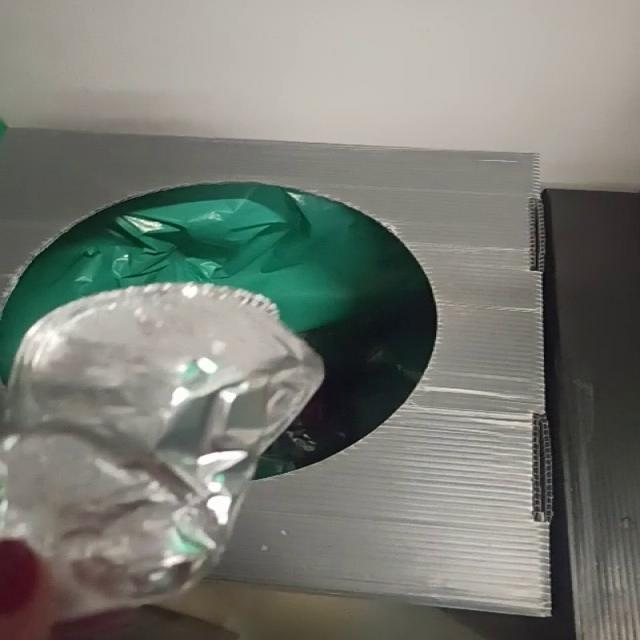bin: (1, 129, 551, 618)
metal: (1, 283, 324, 618)
